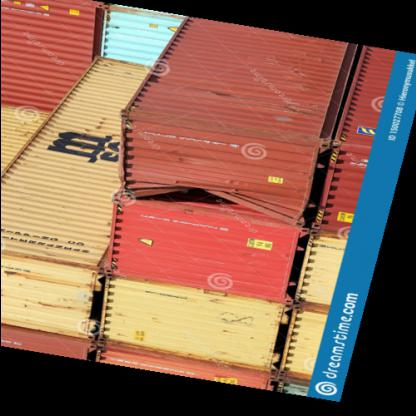Damage: (122, 165, 252, 216)
